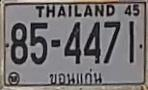1: (128, 21, 134, 62)
4: (83, 21, 100, 63), (63, 21, 80, 63)
5: (30, 22, 48, 64)
7: (103, 20, 120, 63)
8: (10, 22, 27, 64)
KKN: (46, 68, 105, 86)
